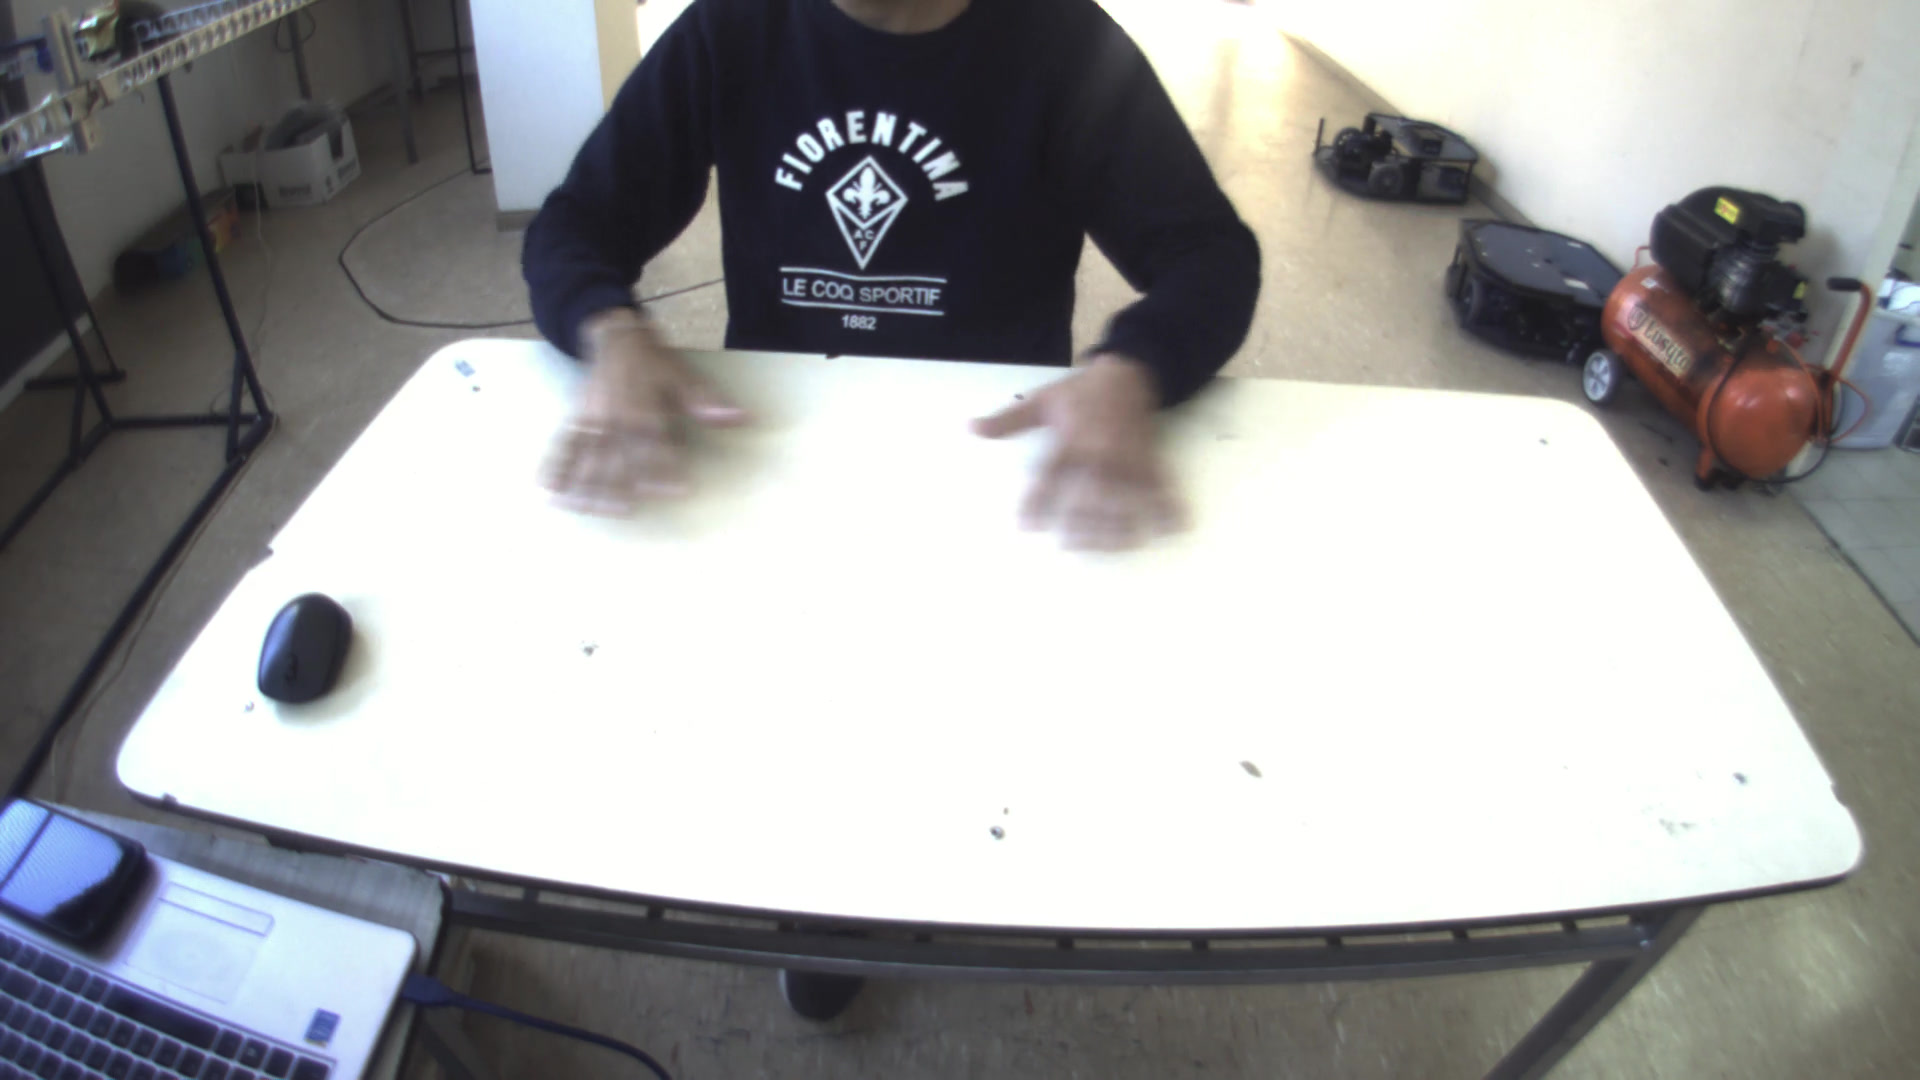hand: (961, 330, 1211, 567), (530, 301, 748, 524)
